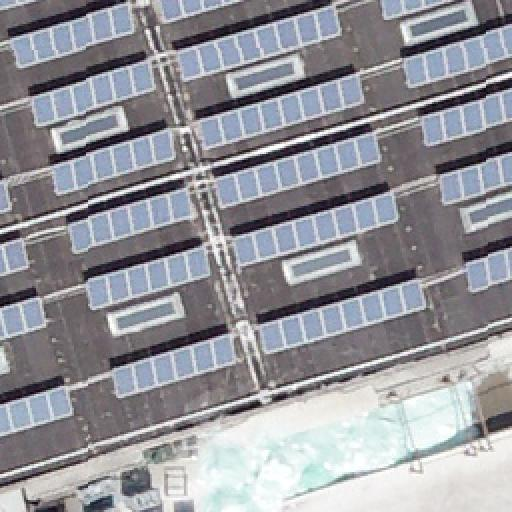solar-panel: (215, 131, 385, 213), (194, 72, 366, 152), (178, 3, 342, 85), (259, 278, 429, 354), (234, 189, 398, 267), (31, 58, 161, 130), (7, 1, 137, 71), (67, 186, 197, 254), (50, 128, 178, 196), (113, 330, 239, 398), (84, 246, 216, 310), (400, 24, 512, 88), (420, 85, 512, 147), (0, 385, 80, 439), (436, 152, 512, 204), (0, 292, 52, 340), (156, 0, 248, 26), (464, 245, 512, 291), (378, 1, 450, 23), (0, 236, 32, 276), (0, 178, 16, 214), (1, 0, 31, 8)
